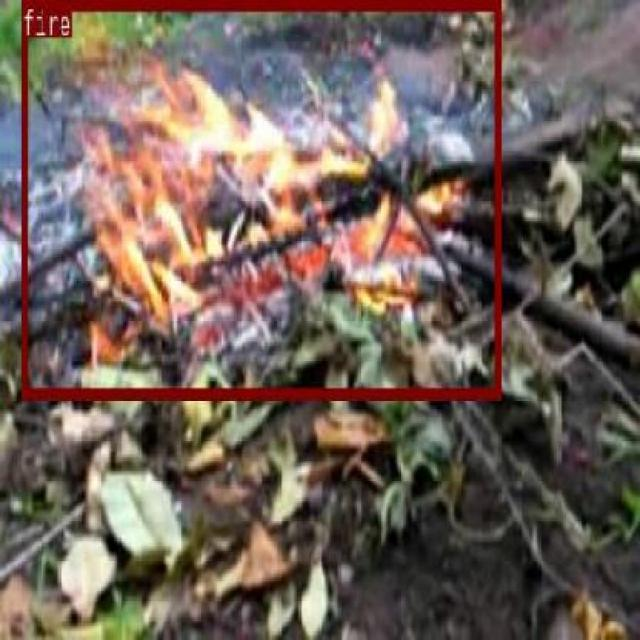Fire: (22, 0, 500, 397)
